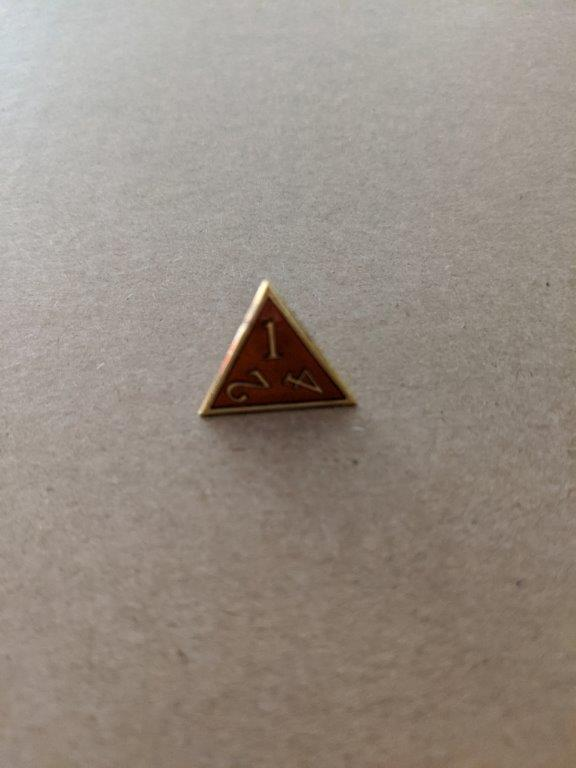d4-1: (197, 272, 362, 421)
